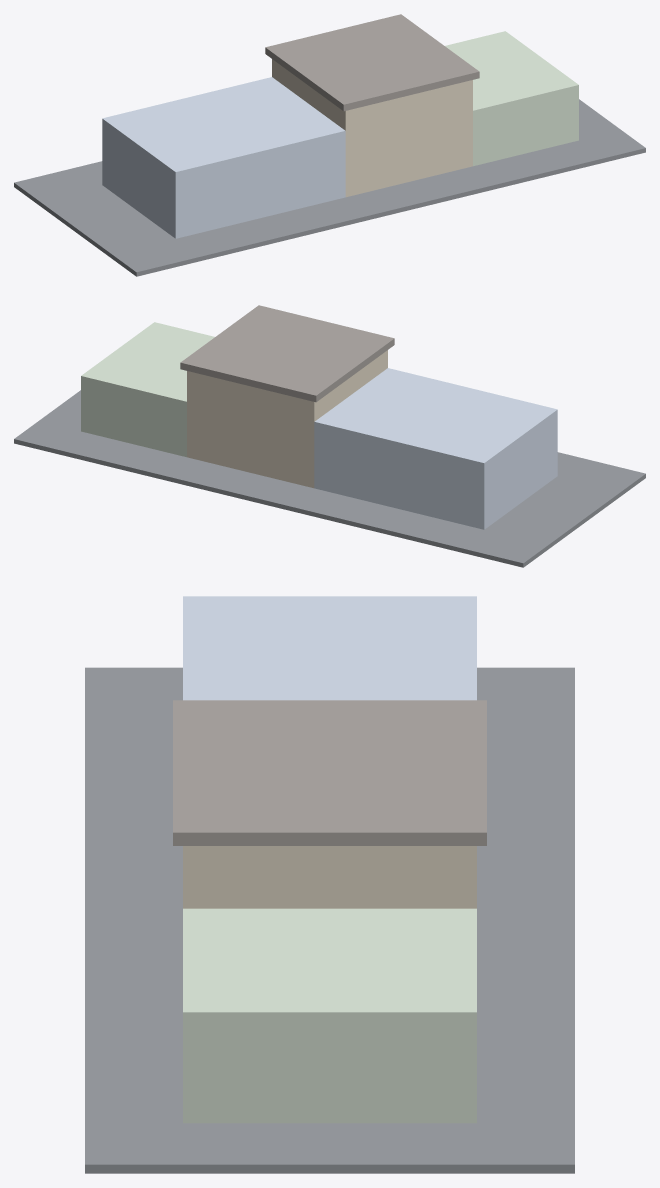
The model's file is sample-building.gltf.
3 views of the same model, one above another, from view 1: azimuth 30°, elevation 25°; view 2: azimuth 150°, elevation 25°; view 3: azimuth 270°, elevation 25° (orthographic). The views are drawn at different scales.
Parts seen in each view (by area): view 1: Zone_1, Site_Pad, Zone_2, Zone_2_Roof, Zone_3; view 2: Zone_1, Site_Pad, Zone_2, Zone_2_Roof, Zone_3; view 3: Site_Pad, Zone_3, Zone_2_Roof, Zone_1, Zone_2.
Part boxes in pixels (x1=…): Zone_1: x1=102, y1=77, x2=345, y2=238; Site_Pad: x1=14, y1=99, x2=645, y2=276; Zone_2: x1=272, y1=59, x2=472, y2=197; Zone_2_Roof: x1=265, y1=14, x2=479, y2=111; Zone_3: x1=445, y1=31, x2=578, y2=166; Zone_1: x1=314, y1=368, x2=557, y2=529; Site_Pad: x1=14, y1=390, x2=645, y2=567; Zone_2: x1=187, y1=350, x2=387, y2=488; Zone_2_Roof: x1=180, y1=305, x2=394, y2=402; Zone_3: x1=81, y1=322, x2=214, y2=457; Site_Pad: x1=85, y1=667, x2=574, y2=1173; Zone_3: x1=183, y1=908, x2=476, y2=1123; Zone_2_Roof: x1=173, y1=700, x2=486, y2=845; Zone_1: x1=183, y1=596, x2=476, y2=700; Zone_2: x1=183, y1=846, x2=476, y2=908.
Size of the model in its own units: 24 by 4.5 by 10.
